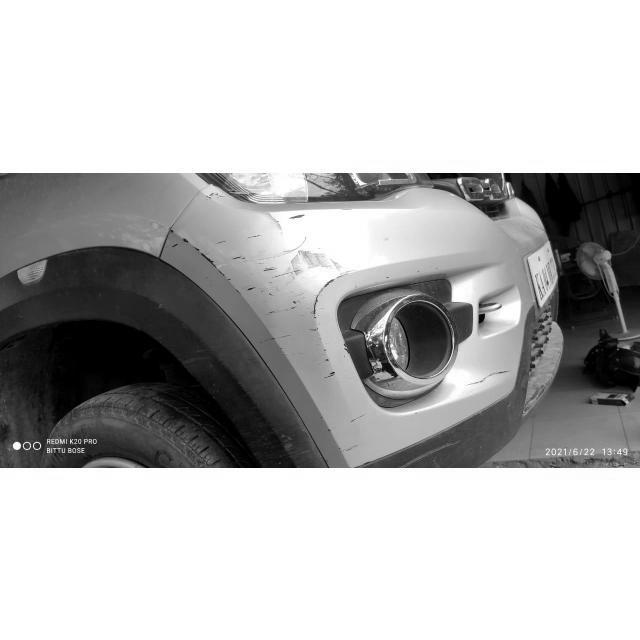front-bumper-dent: (171, 192, 510, 467)
